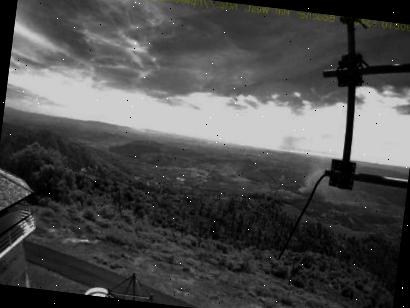smoke: (296, 164, 327, 200)
